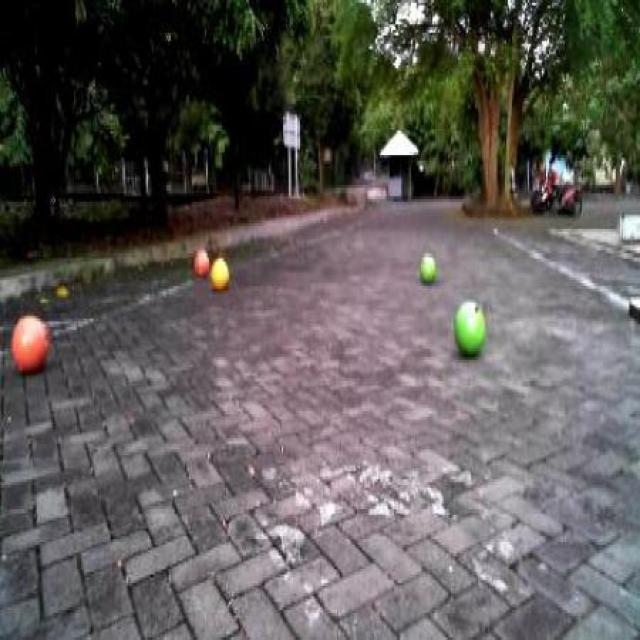buoy: (8, 306, 52, 378), (450, 290, 489, 361), (415, 243, 440, 287), (189, 243, 211, 278), (210, 253, 230, 289)
